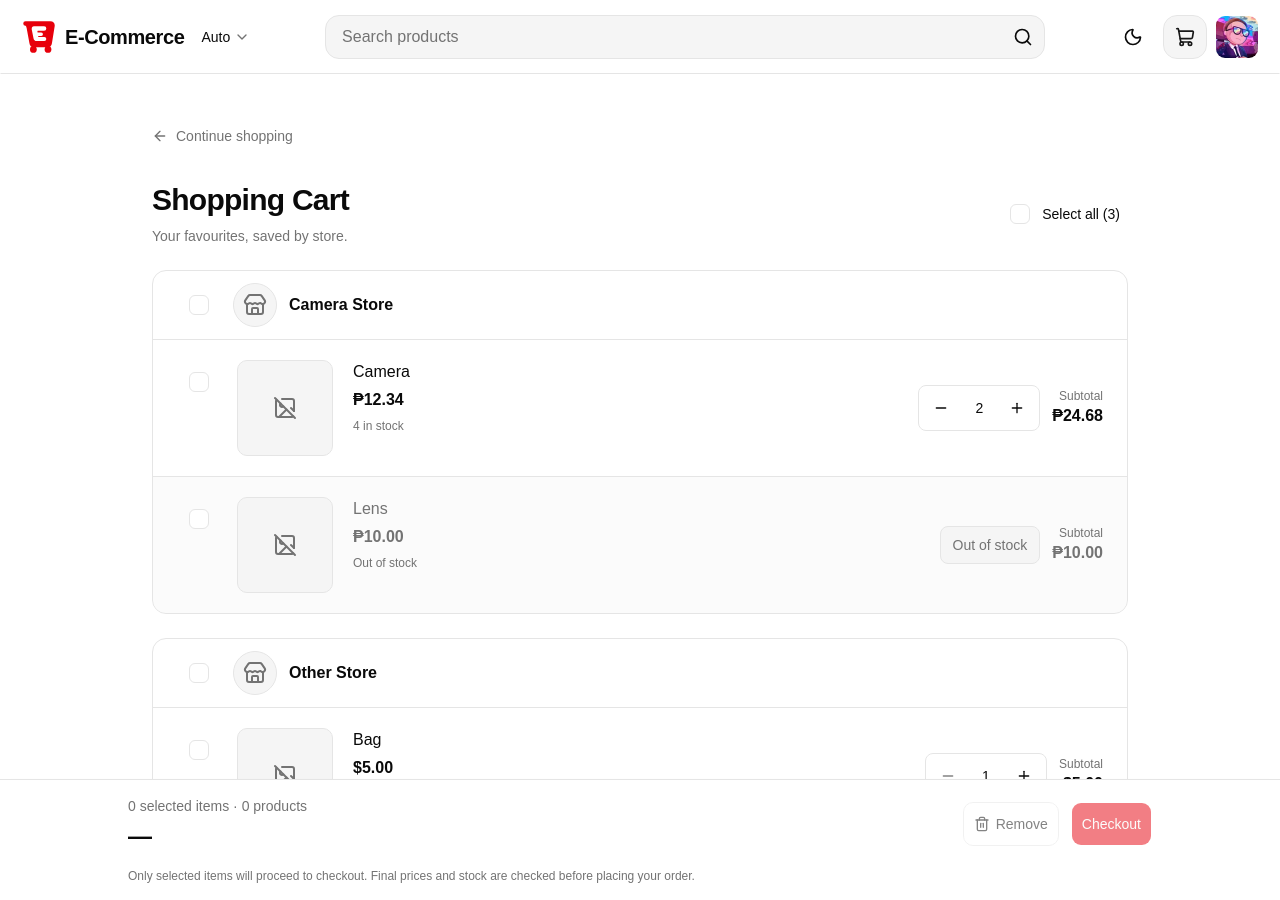
Shopping cart › updates quantities and refreshes stale stock after a rejected mutation
The image size is (1280, 900).
What coordinates should you click on to do the following:
click the button named "Increase Camera quantity"
I would click on:
 (1017, 408)
Its box is [995,386,1039,430].
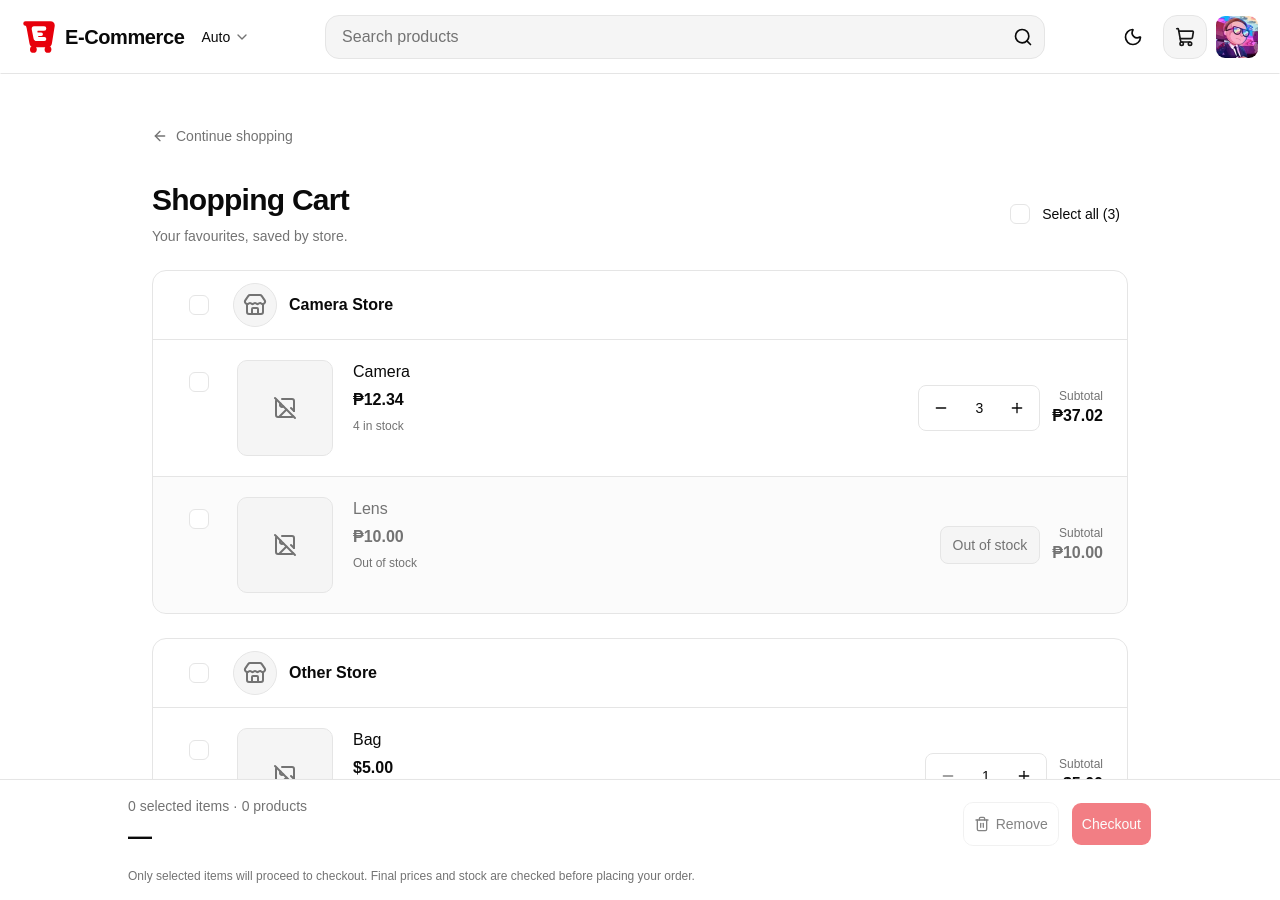
Result: the text named "Camera quantity" reads "3" at [975,400,983,416]
What coordinates should you click on to do the following:
click the button named "Increase Camera quantity"
I would click on:
 (1017, 408)
Its box is [995,386,1039,430].
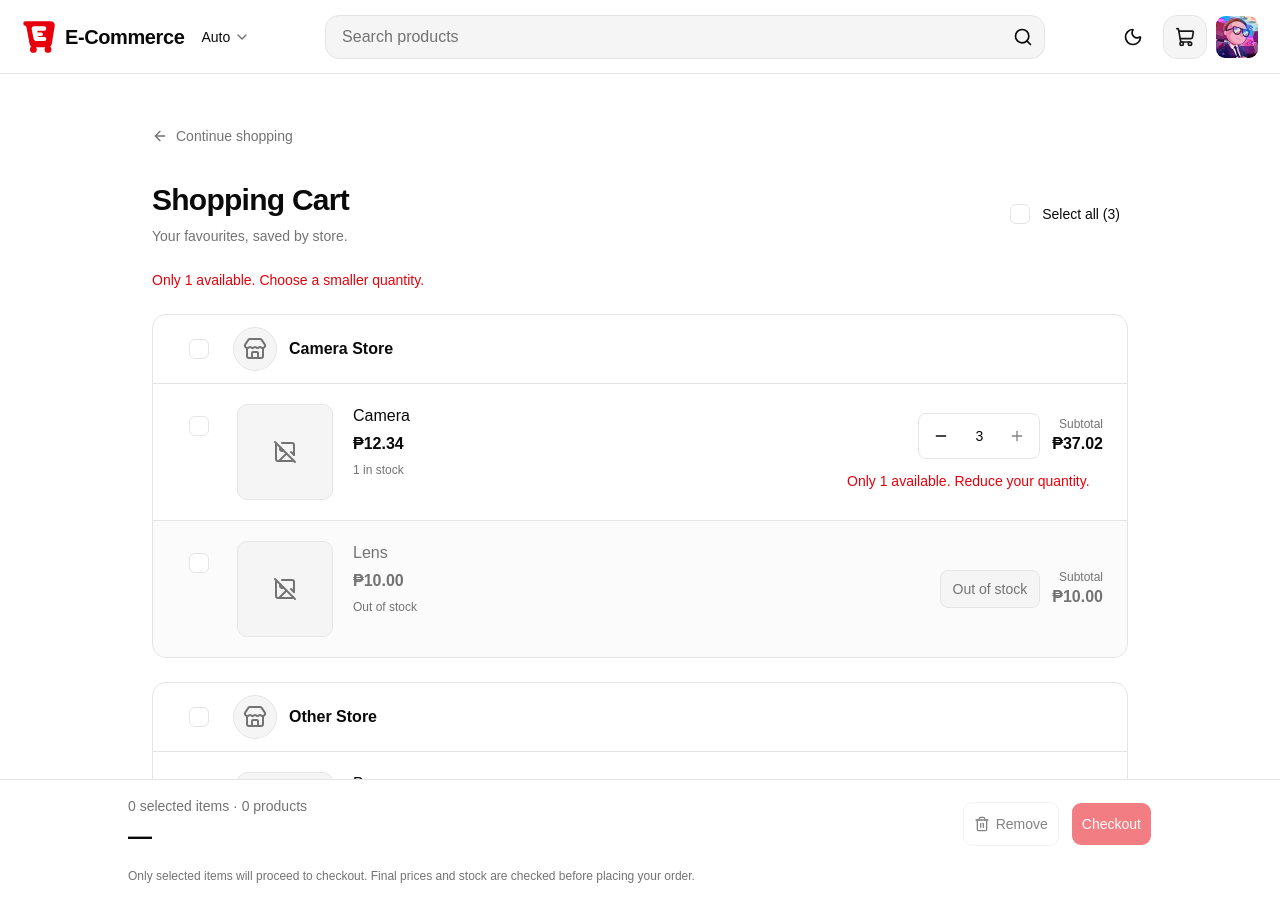
Result: the text "Only 1 available. Choose a smaller quantity." is shown at [152,272,424,288]
Result: the text "Only 1 available. Reduce your quantity." is shown at [847,471,1103,491]
Result: the button named "Increase Camera quantity" is disabled at [995,414,1039,458]
What coordinates should you click on to do the following:
click the button named "Decrease Camera quantity"
I would click on:
 (941, 436)
Its box is [919,414,963,458].
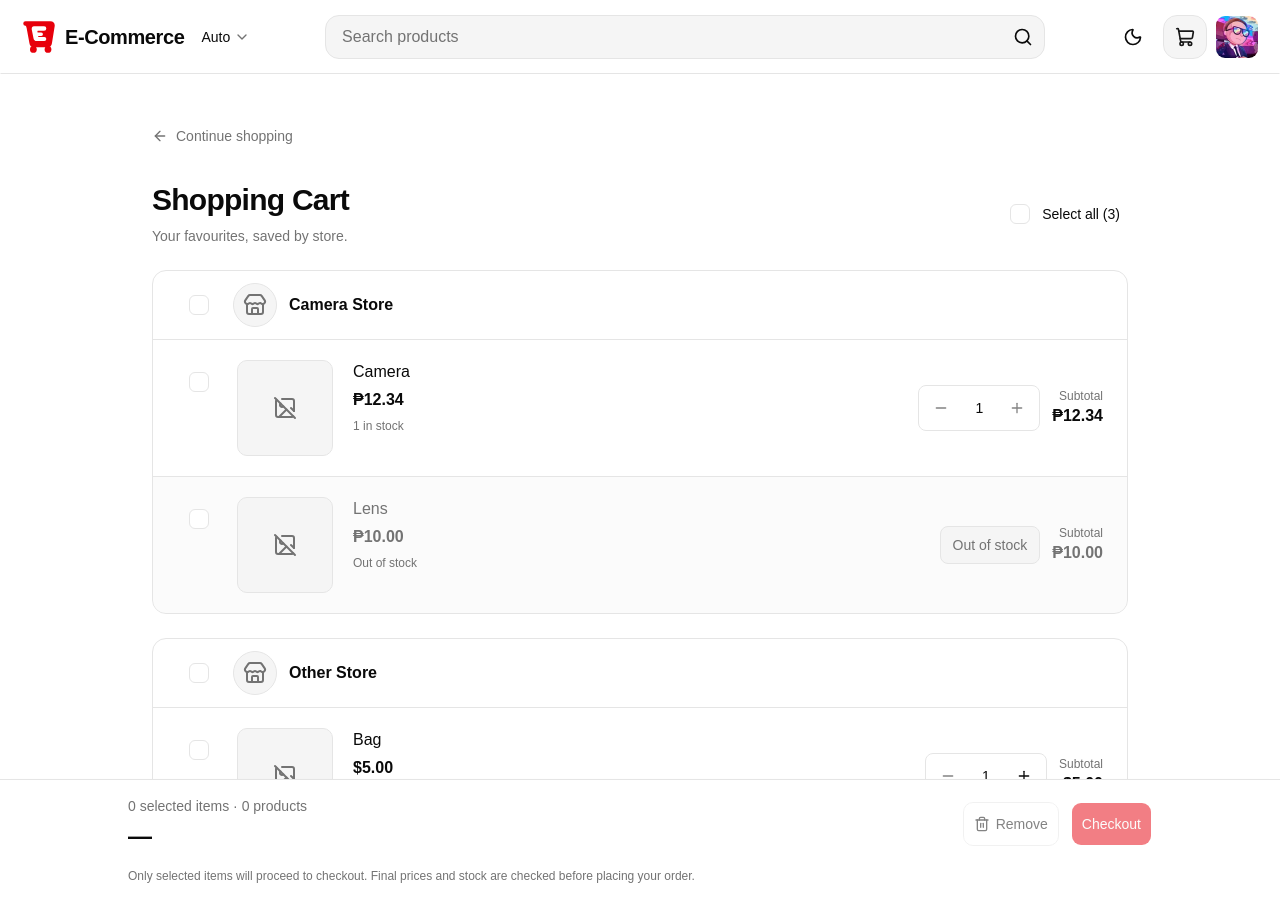
Result: the text named "Camera quantity" reads "1" at [975,400,983,416]
